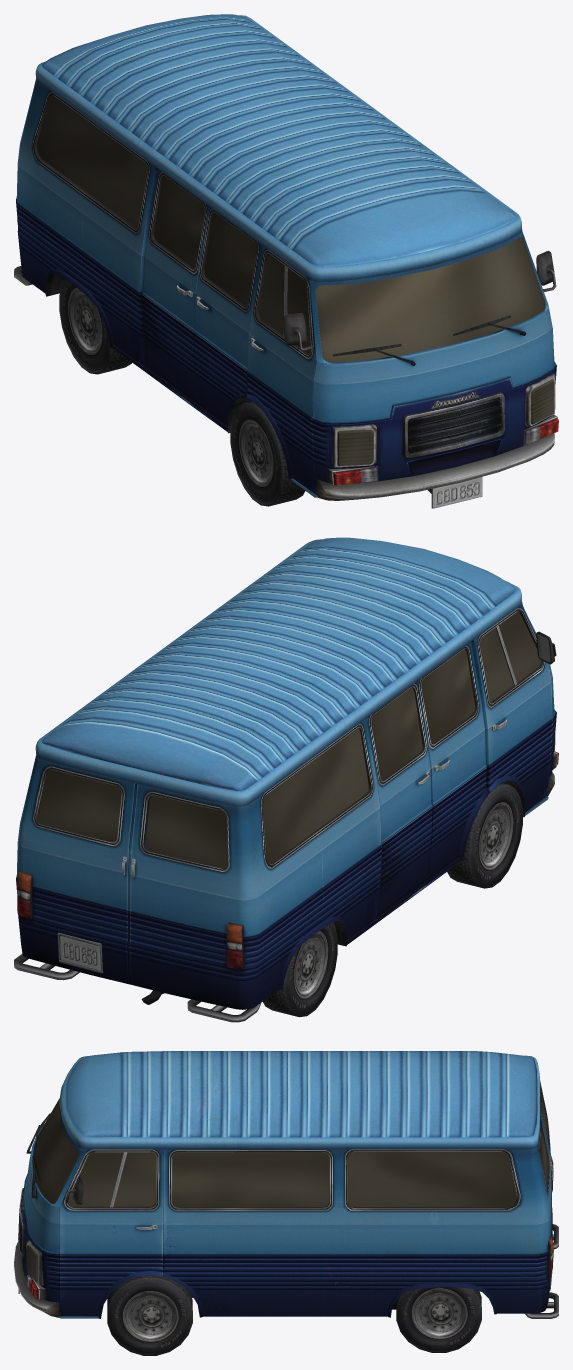
Rendered from van.FBX.
The picture shows the model from 3 angles, top to bottom: view 1: azimuth 30°, elevation 25°; view 2: azimuth 150°, elevation 25°; view 3: azimuth 270°, elevation 25°; orthographic projection. The views are drawn at different scales.
Visible parts, largest first — view 1: OS_Van02, winshild, door_R, wheel_F_R, wheel_R_R; view 2: OS_Van02, winshild, door_R, wheel_F_R, wheel_R_R; view 3: OS_Van02, winshild, door_L, wheel_F_L, wheel_R_L.
Part boxes in pixels (x1,y1,x2,y2): OS_Van02: (14, 14, 558, 508); winshild: (36, 95, 554, 466); door_R: (247, 245, 317, 495); wheel_F_R: (230, 401, 305, 506); wheel_R_R: (59, 278, 132, 374); OS_Van02: (14, 537, 558, 1022); winshild: (37, 611, 540, 867); door_R: (474, 605, 556, 812); wheel_F_R: (447, 783, 522, 888); wheel_R_R: (262, 922, 337, 1017); OS_Van02: (14, 1051, 558, 1318); winshild: (26, 1088, 547, 1282); door_L: (59, 1149, 163, 1316); wheel_F_L: (107, 1275, 192, 1355); wheel_R_L: (396, 1287, 481, 1352).
Bounding box in the file's own units: 22.58 × 23.22 × 48.91.
